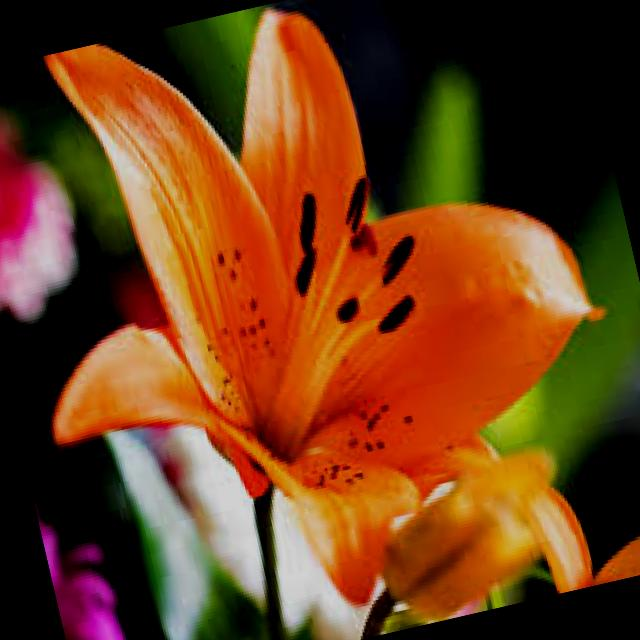lily: (9, 0, 626, 640)
